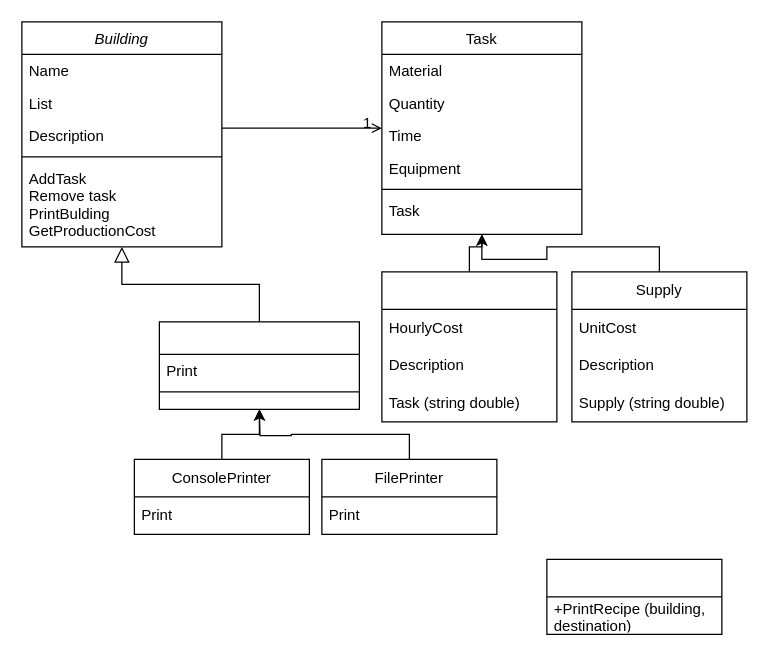
This 769x656 diagram has some shape labels left out. The shapes that lost their labels are listed below. From the top down, each one's box as (x1, y1, x2, y2) in pixels, then its label:
(158, 321, 359, 409): IPrinter
(381, 271, 557, 422): Tool
(546, 558, 722, 634): All in one printer
